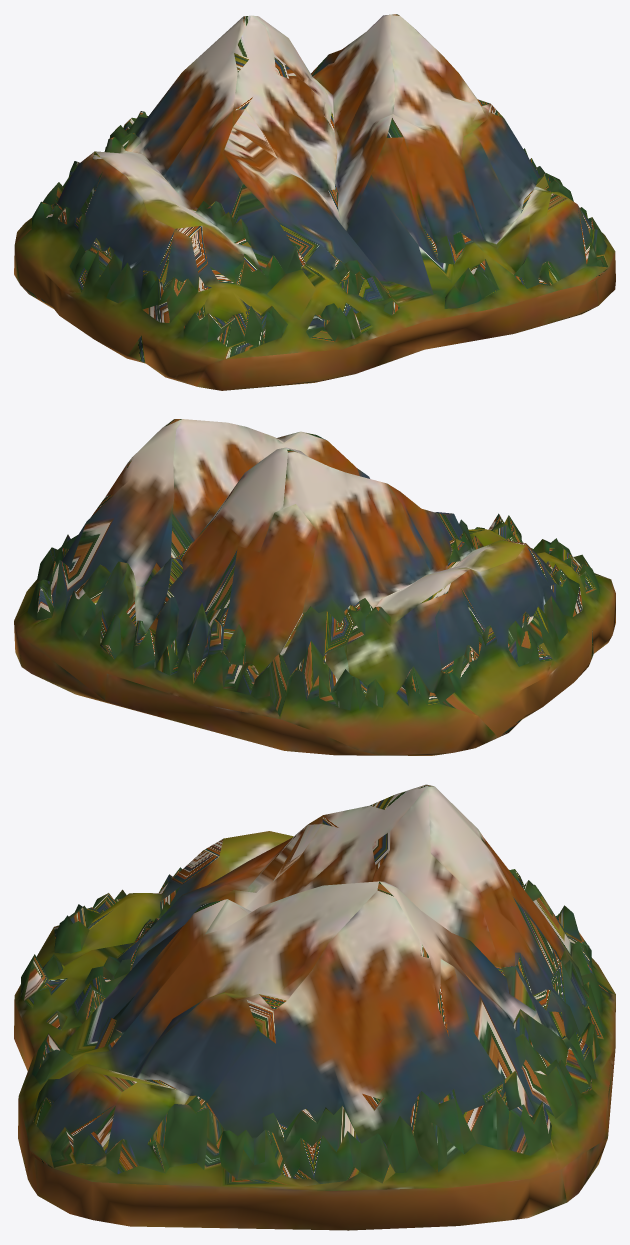
The model's file is bisalta.lod.glb.
The picture shows the model from 3 angles, top to bottom: view 1: azimuth 30°, elevation 25°; view 2: azimuth 150°, elevation 25°; view 3: azimuth 270°, elevation 25°; orthographic projection. The views are drawn at different scales.
Parts seen in each view (by area): view 1: textured_mesh.obj; view 2: textured_mesh.obj; view 3: textured_mesh.obj.
Part boxes in pixels (x1,y1,x2,y2): textured_mesh.obj: (14, 14, 615, 390); textured_mesh.obj: (14, 419, 615, 755); textured_mesh.obj: (14, 784, 615, 1230).
Bounding box in the file's own units: 2.15 × 0.9967 × 1.87.
Materials: 1 (1 with a texture image).
